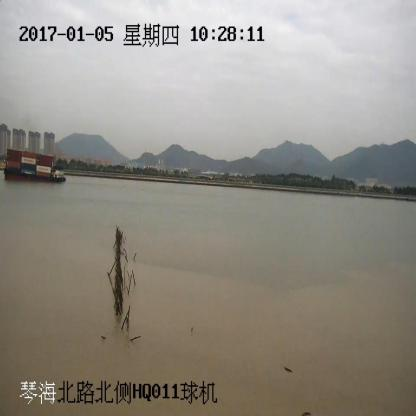Container Ship: (4, 150, 65, 184)
